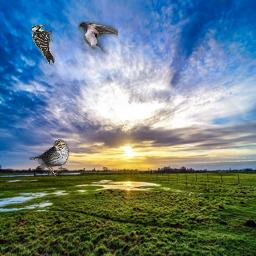Sparrow: (29, 139, 69, 176)
Swallow: (78, 21, 118, 56)
Woodpecker: (31, 24, 55, 64)
